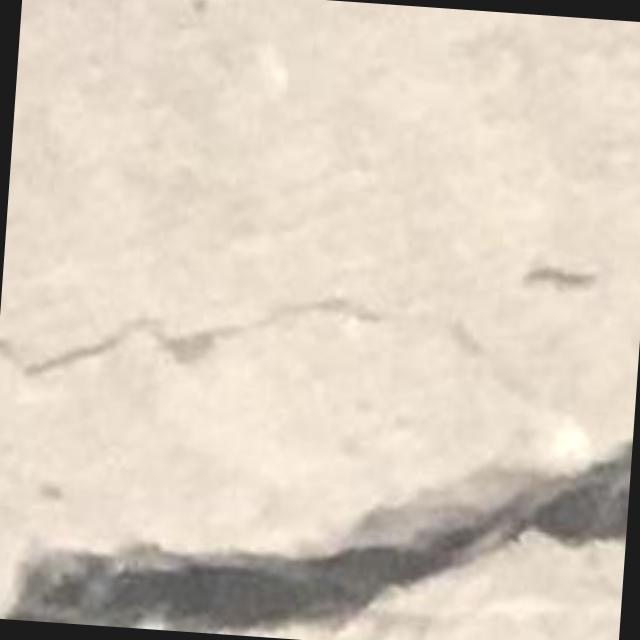crack: (8, 442, 632, 633)
